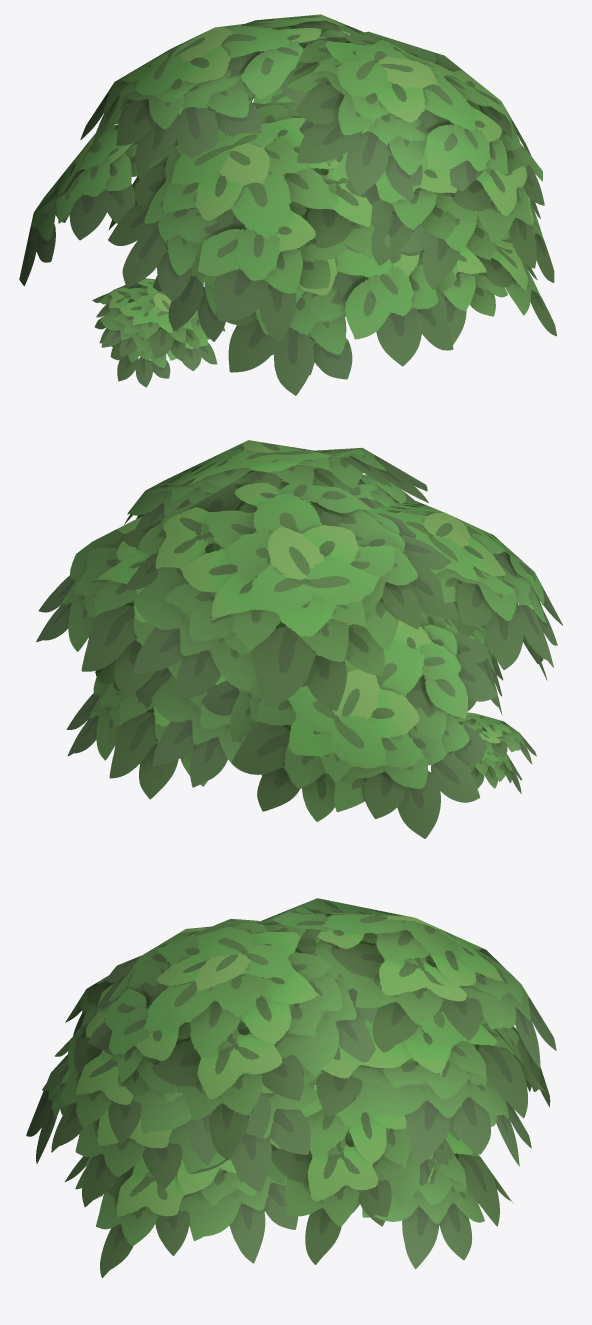
Rendered from Bush_Large.fbx.
3 renders of one model, top to bottom at view 1: azimuth 30°, elevation 25°; view 2: azimuth 150°, elevation 25°; view 3: azimuth 270°, elevation 25°, orthographic. The views are drawn at different scales.
Parts seen in each view (by area): view 1: Bush_Large; view 2: Bush_Large; view 3: Bush_Large.
Part boxes in pixels (x1,y1,x2,y2): Bush_Large: [19, 14, 556, 395]; Bush_Large: [36, 440, 562, 838]; Bush_Large: [26, 898, 556, 1277].
Bounding box in the file's own units: 2.07 × 1.19 × 2.07.
1 material, 1 textured.
